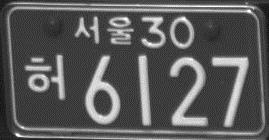0: (169, 16, 196, 50)
1: (134, 54, 157, 127)
2: (169, 55, 210, 127)
3: (139, 14, 166, 50)
6: (82, 54, 122, 125)
7: (209, 55, 249, 129)
서울_O: (73, 13, 134, 47)
허: (23, 52, 68, 101)
